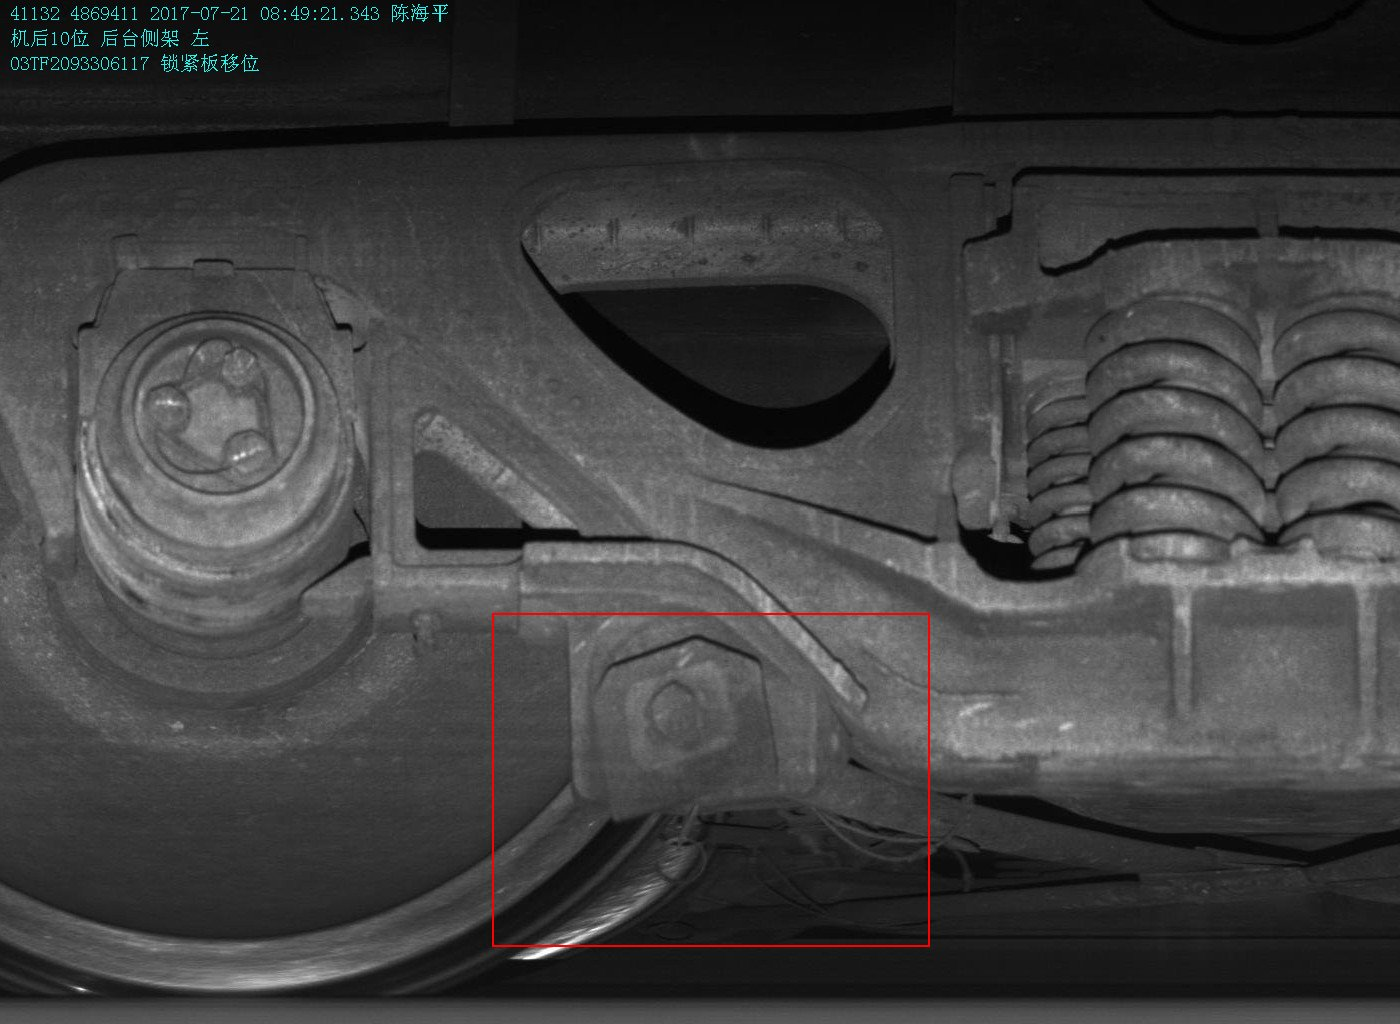locking plate: (578, 625, 822, 825)
